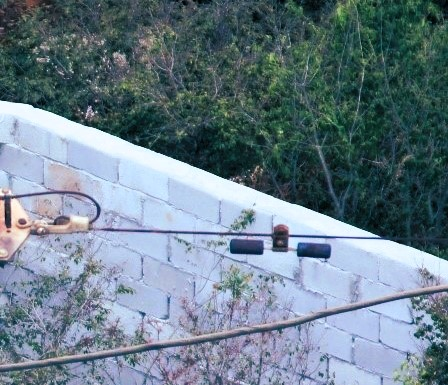Shockproof hammer: (227, 223, 337, 266)
